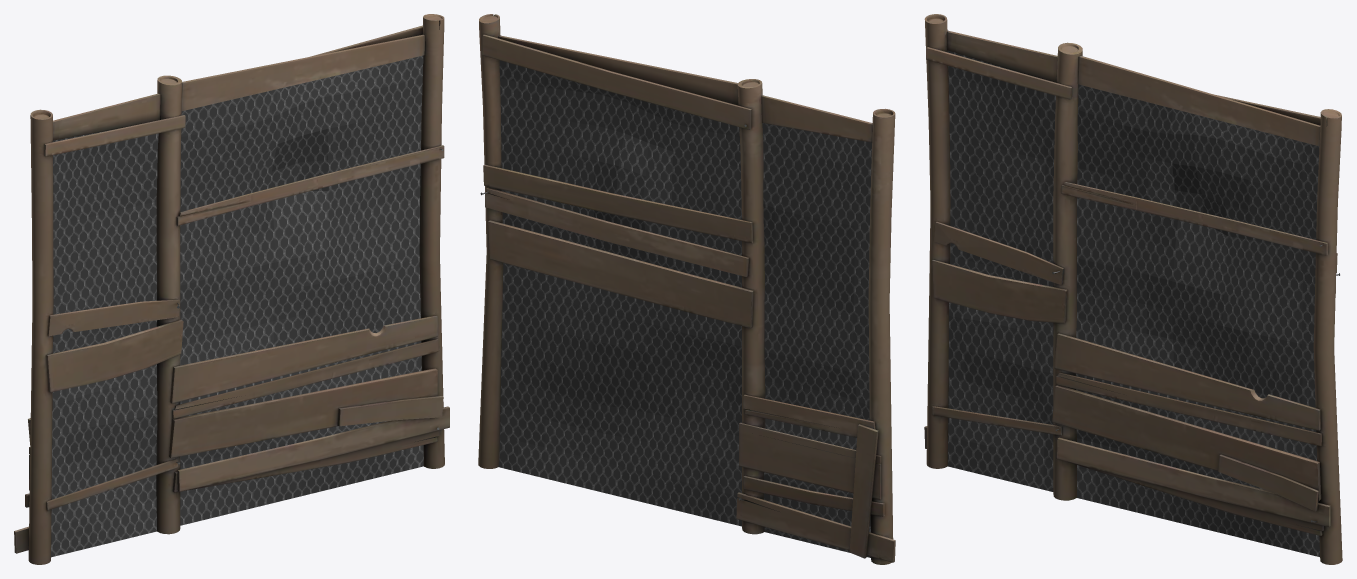
The picture shows the model from 3 angles, left to right: view 1: azimuth 30°, elevation 25°; view 2: azimuth 150°, elevation 25°; view 3: azimuth 330°, elevation 25°; orthographic projection.
Parts seen in each view (by area): view 1: body0_model0_lod0_mesh0, body0_model0_lod0_mesh1; view 2: body0_model0_lod0_mesh0, body0_model0_lod0_mesh1; view 3: body0_model0_lod0_mesh0, body0_model0_lod0_mesh1.
Part boxes in pixels (x1,y1,x2,y2): body0_model0_lod0_mesh0: (51,55,423,557); body0_model0_lod0_mesh1: (14,14,449,564); body0_model0_lod0_mesh0: (498,60,871,557); body0_model0_lod0_mesh1: (478,14,895,564); body0_model0_lod0_mesh0: (947,50,1319,556); body0_model0_lod0_mesh1: (924,14,1342,564).
Size of the model in its own units: 265 by 268 by 24.88.
Materials: 2 (2 with a texture image).
